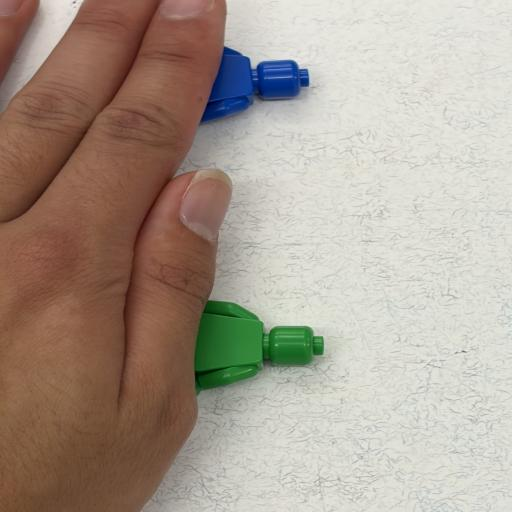Blue-Lego: (201, 47, 310, 123)
Green-Lego: (194, 300, 324, 394)
